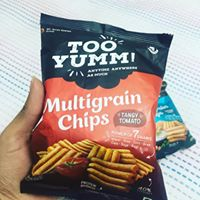plastic: (42, 16, 166, 200), (132, 80, 194, 144)
tooyumm: (49, 36, 142, 76)
wrapper: (26, 24, 191, 186)
